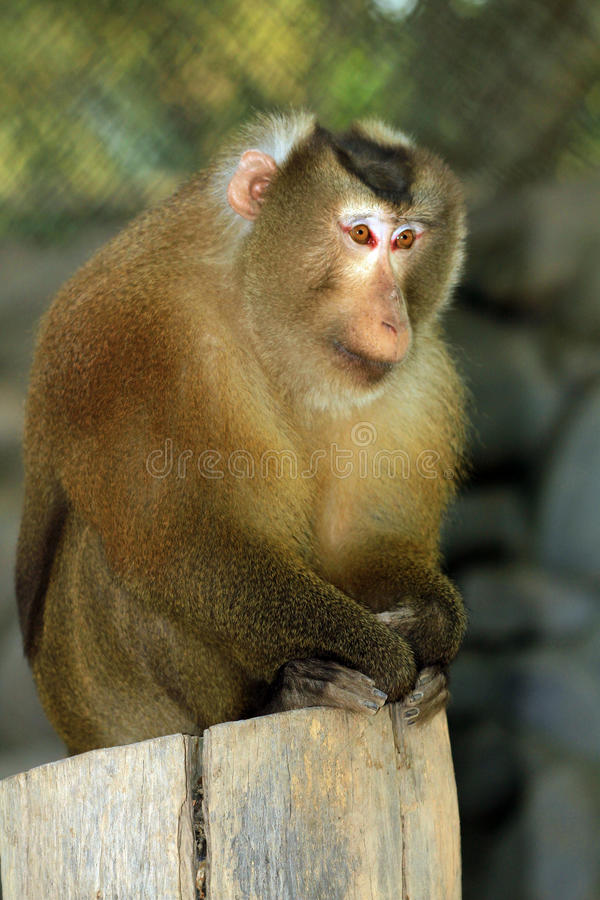monkey: (1, 80, 509, 769)
